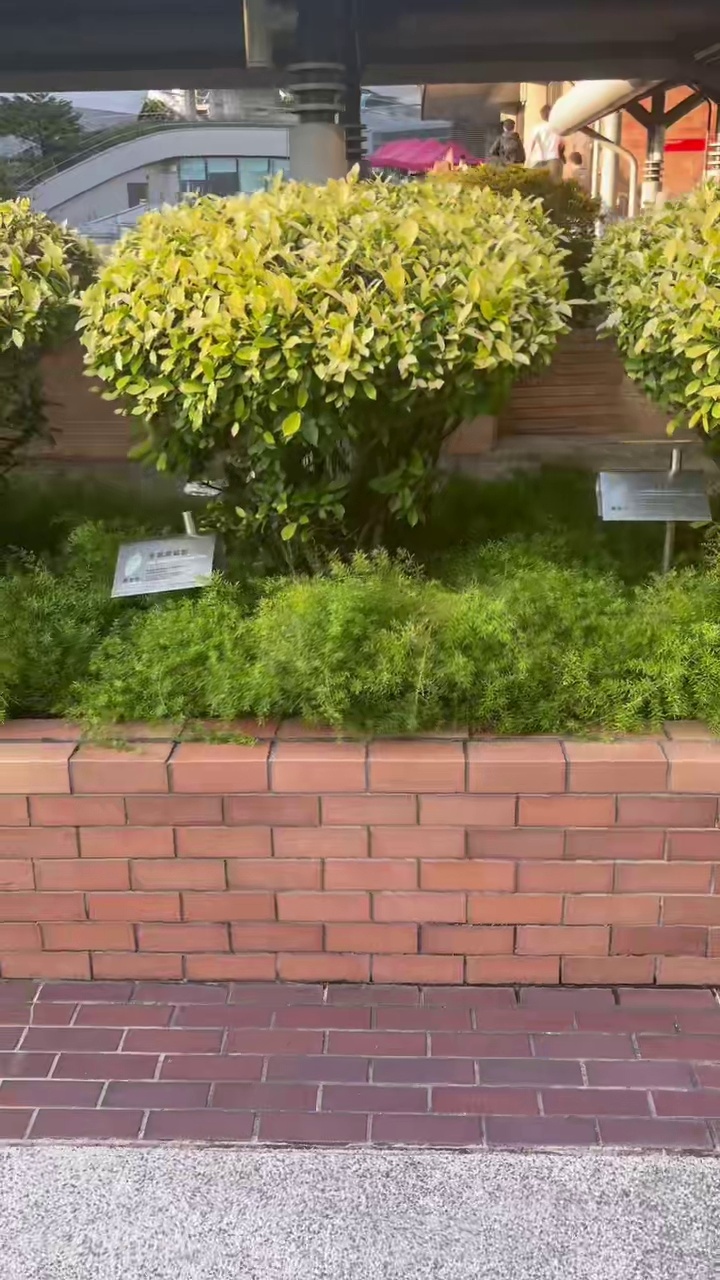Golden-leaves Fig: (80, 174, 569, 563)
